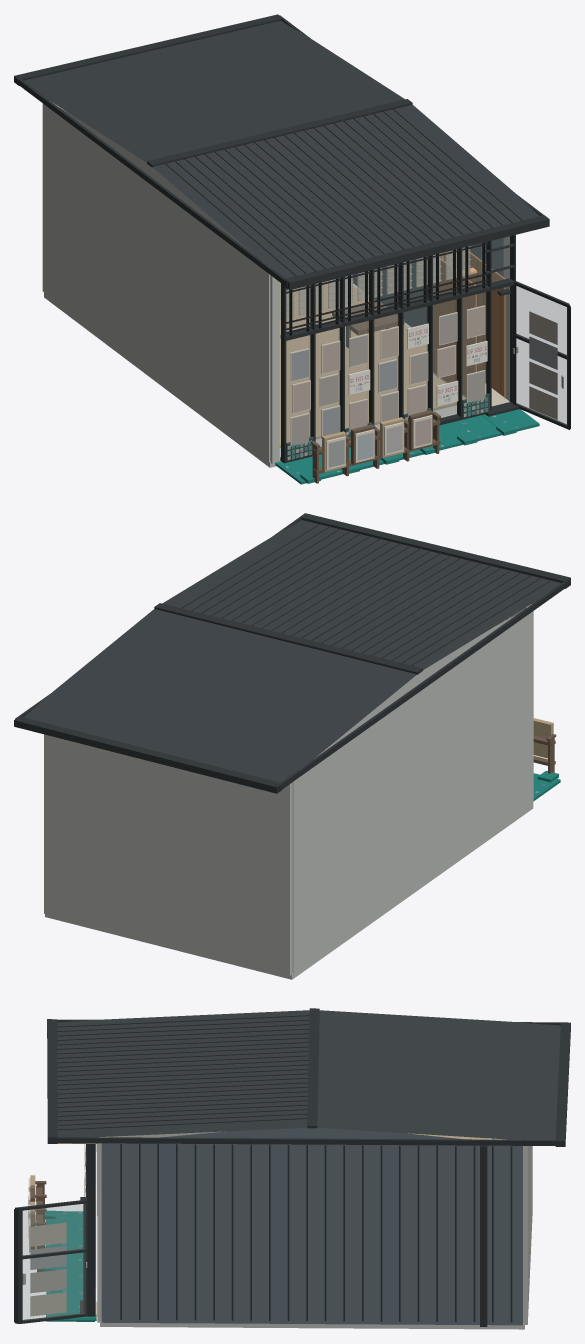
The model's file is beautiful-hangul-studio.glb.
3 views of the same model, one above another, from view 1: azimuth 30°, elevation 25°; view 2: azimuth 150°, elevation 25°; view 3: azimuth 270°, elevation 25° (orthographic). The views are drawn at different scales.
Parts seen in each view (by area): view 1: left-wall, front-roof-slope, rear-roof-slope, interior-floor, long-front-fascia, door-leaf-dark-glass, painted-concrete-strip, side-eave--6.44, timber-entry-return, ridge-cap, rear-fascia, entry-left-return (+30 smaller); view 2: left-wall, rear-wall, rear-roof-slope, front-roof-slope, rear-fascia, side-eave--6.44, long-front-fascia, foundation, ridge-cap, left-gable-under-roof; view 3: right-corrugated-wall, front-roof-slope, rear-roof-slope, door-leaf-dark-glass, side-eave-6.44, right-gable-under-roof, painted-concrete-strip, foundation, door-right-jamb, rear-wall, right-rain-downpipe, long-front-fascia (+17 smaller).
Boxes of the visible parts, x1=… form: left-wall: x1=44, y1=105, x2=270, y2=462; front-roof-slope: x1=152, y1=104, x2=539, y2=278; rear-roof-slope: x1=23, y1=20, x2=404, y2=162; interior-floor: x1=279, y1=281, x2=465, y2=448; long-front-fascia: x1=284, y1=215, x2=549, y2=290; door-leaf-dark-glass: x1=516, y1=286, x2=566, y2=424; painted-concrete-strip: x1=275, y1=409, x2=539, y2=484; side-eave--6.44: x1=15, y1=76, x2=287, y2=287; timber-entry-return: x1=464, y1=253, x2=505, y2=396; ridge-cap: x1=147, y1=99, x2=412, y2=167; rear-fascia: x1=14, y1=14, x2=280, y2=85; entry-left-return: x1=433, y1=259, x2=476, y2=396; left-wall: x1=292, y1=612, x2=532, y2=974; rear-wall: x1=44, y1=734, x2=292, y2=976; rear-roof-slope: x1=23, y1=609, x2=416, y2=782; front-roof-slope: x1=162, y1=520, x2=560, y2=669; rear-fascia: x1=14, y1=717, x2=282, y2=793; side-eave--6.44: x1=277, y1=580, x2=569, y2=791; long-front-fascia: x1=299, y1=513, x2=570, y2=588; foundation: x1=45, y1=802, x2=533, y2=979; ridge-cap: x1=154, y1=603, x2=422, y2=674; left-gable-under-roof: x1=314, y1=615, x2=515, y2=758; right-corrugated-wall: x1=101, y1=1143, x2=522, y2=1325; front-roof-slope: x1=57, y1=1010, x2=309, y2=1137; rear-roof-slope: x1=317, y1=1010, x2=560, y2=1140; door-leaf-dark-glass: x1=23, y1=1204, x2=86, y2=1320; side-eave-6.44: x1=51, y1=1137, x2=562, y2=1145; right-gable-under-roof: x1=160, y1=1127, x2=462, y2=1139; painted-concrete-strip: x1=45, y1=1211, x2=94, y2=1321; foundation: x1=100, y1=1321, x2=524, y2=1329; door-right-jamb: x1=87, y1=1144, x2=95, y2=1316; rear-wall: x1=523, y1=1146, x2=532, y2=1324; right-rain-downpipe: x1=480, y1=1145, x2=487, y2=1326; long-front-fascia: x1=47, y1=1019, x2=57, y2=1143.
Size of the model in its own units: 5.59 by 4.4 by 10.81.
